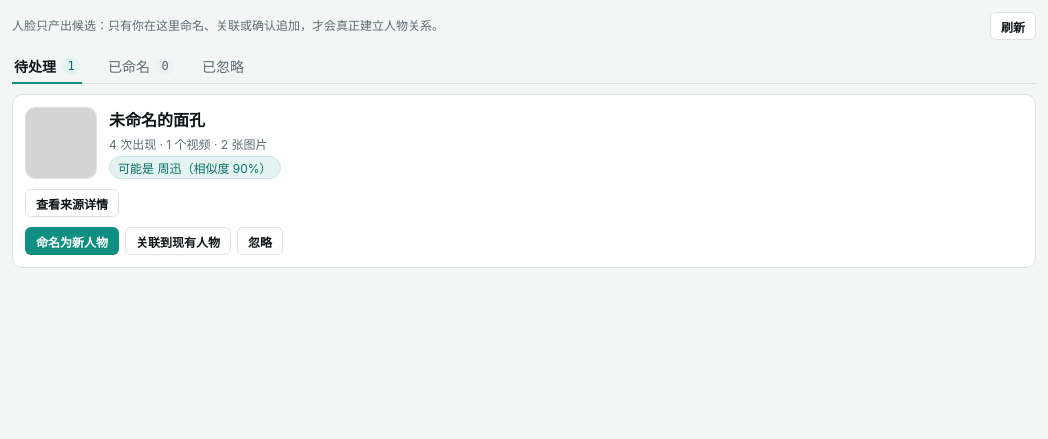
Test: FaceClusterReviewPanel › links a cluster to an existing person with the candidate on top
The image size is (1048, 439).
Click the button with test id "face-cluster-link-open-1": (178, 241) [125, 227, 231, 255]
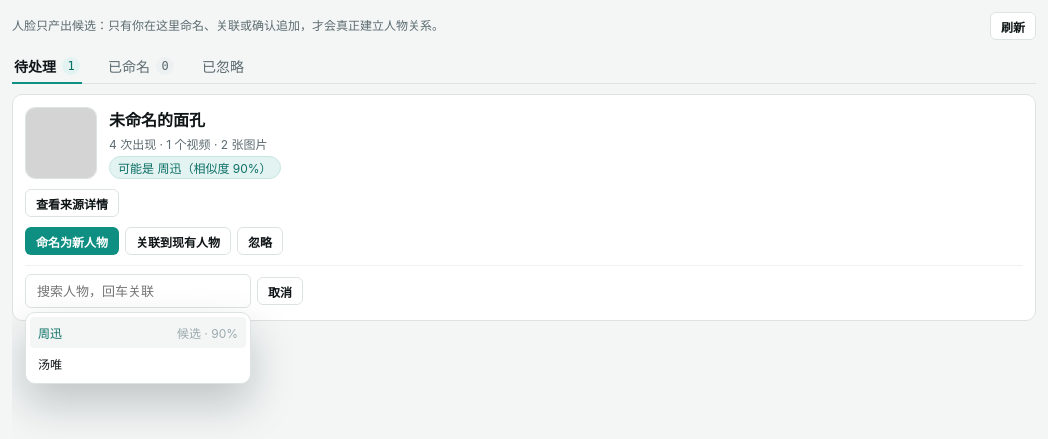
Now the number of options is 2
Now the option "周迅 候选 · 90%" is shown
Now the option "汤唯" is shown, box [30, 348, 246, 379]
Press the mouse on the option "周迅 候选 · 90%": (138, 332) [30, 317, 246, 348]
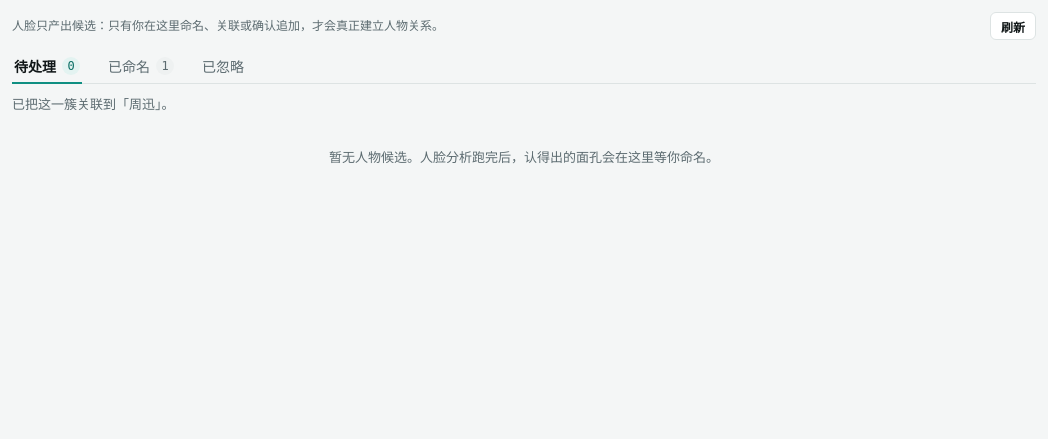
Now the message with test id "face-cluster-review-notice" shows "周迅", box [12, 96, 174, 112]
